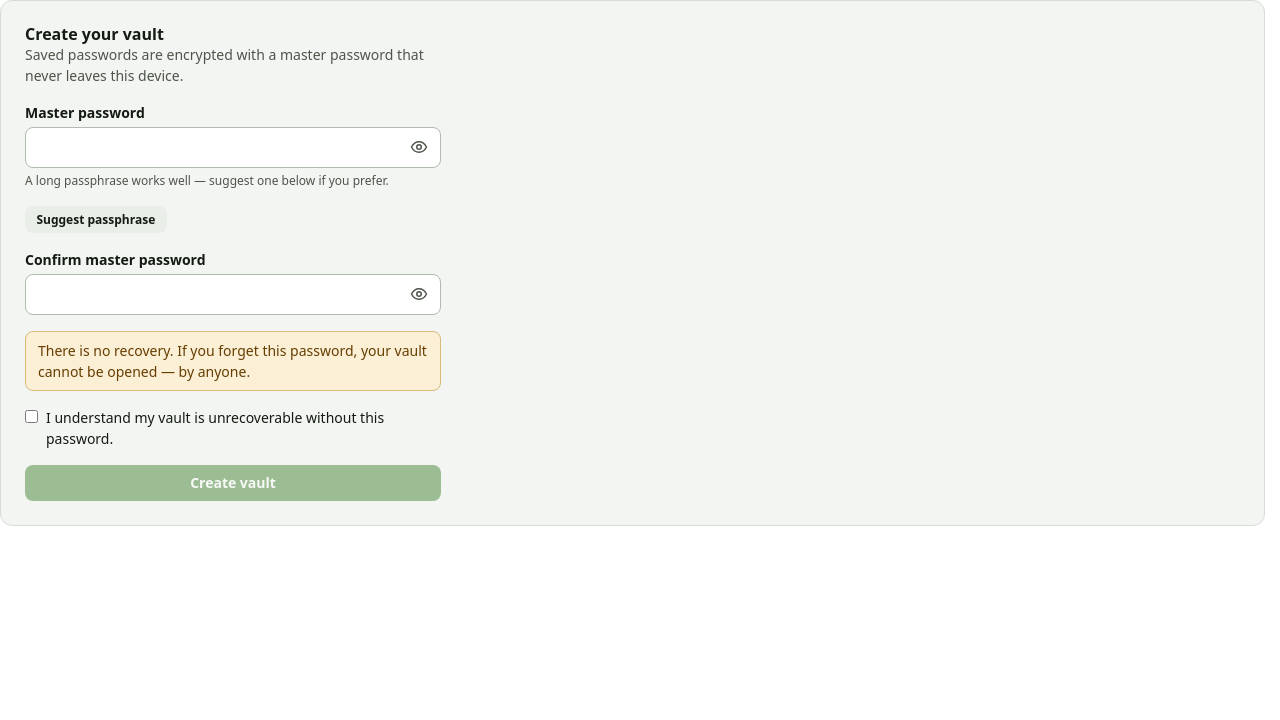
VaultView › blocks creation on mismatched confirmation
expect the heading "Create your vault" is shown: met, box left=25, top=23, right=164, bottom=45
Type "a-long-master-pw" into the password field labelled "Master password" at [233, 148], box left=25, top=127, right=441, bottom=168
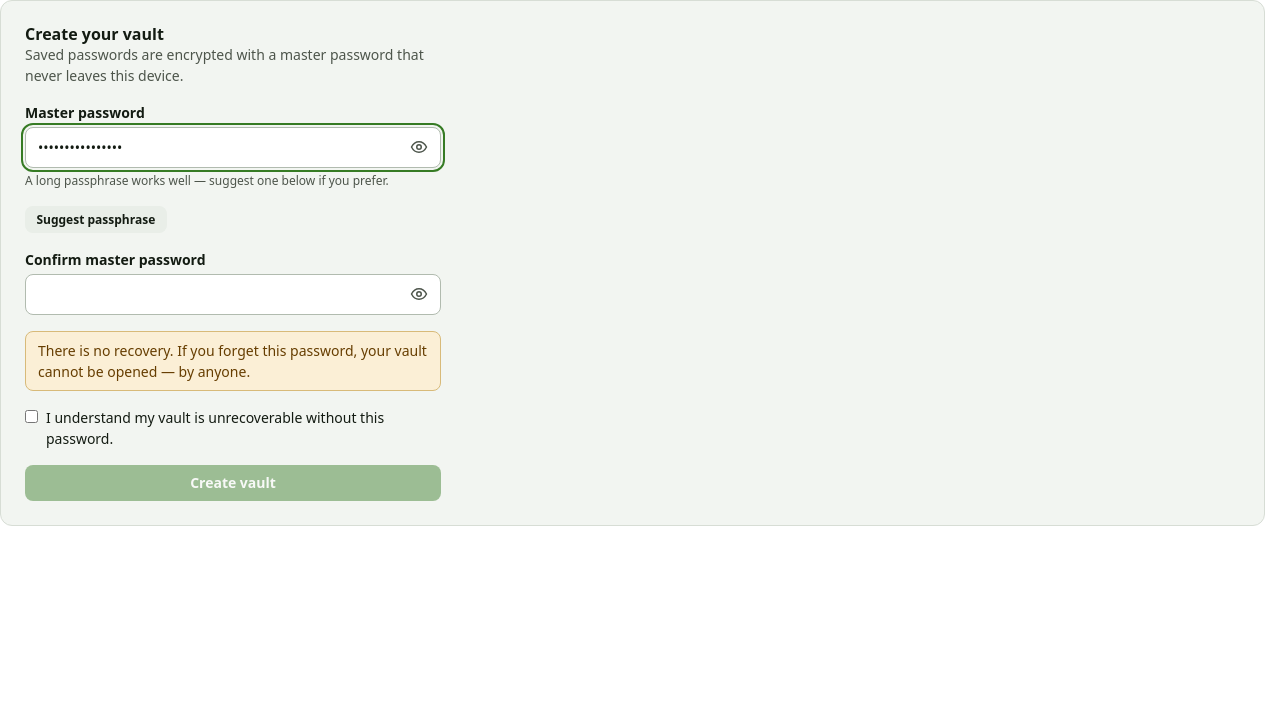
Type "different-pw-abc" into the password field labelled "Confirm master password" at [233, 294], box left=25, top=274, right=441, bottom=315
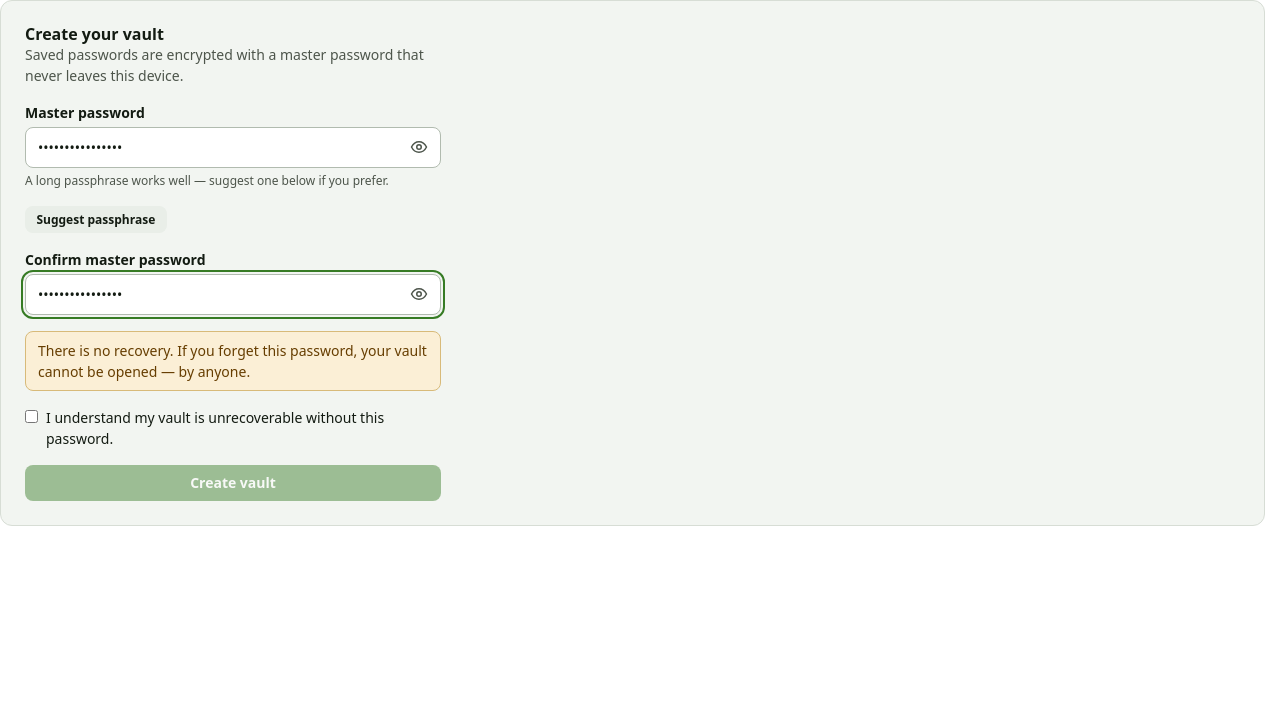
Click the checkbox at [32, 416], box left=25, top=410, right=38, bottom=423
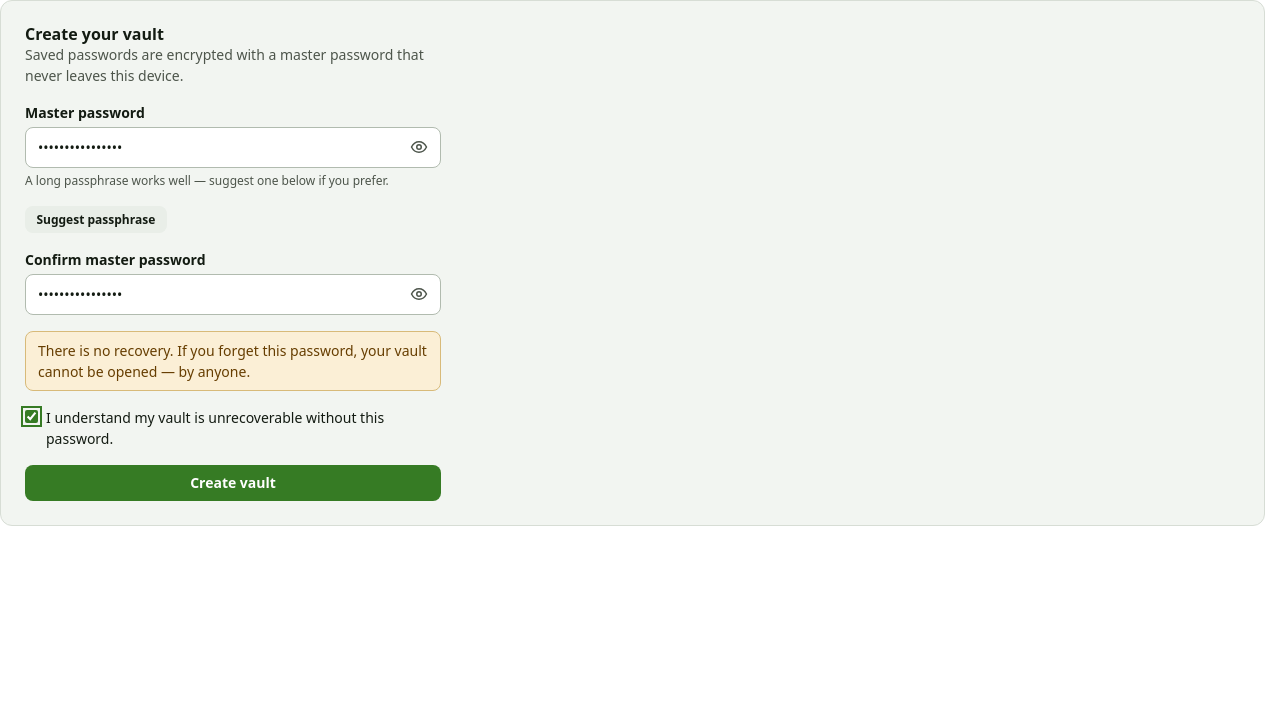
Click the button "Create vault" at [233, 483], box left=25, top=465, right=441, bottom=501
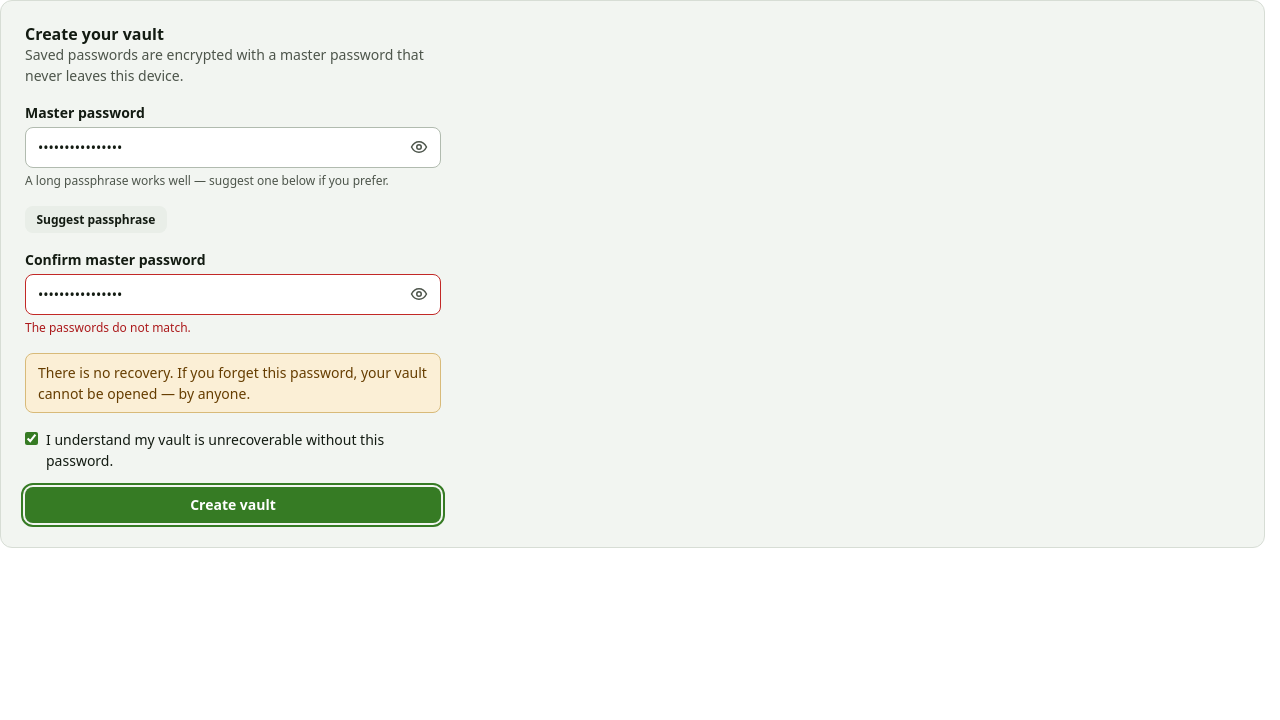
expect the text "The passwords do not match." is shown: met, box left=25, top=319, right=191, bottom=336
